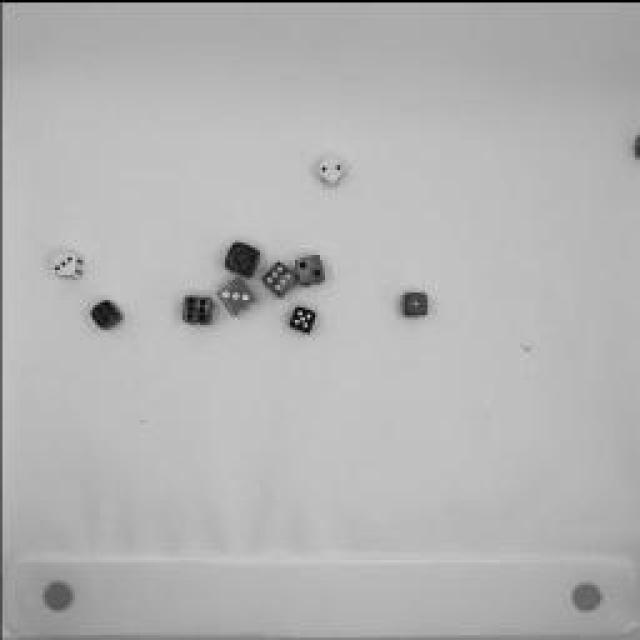dice_1: (393, 285, 435, 320)
dice_2: (310, 154, 350, 186), (295, 252, 325, 286)
dice_3: (220, 238, 265, 278), (216, 278, 256, 318), (46, 248, 86, 282)
dice_5: (282, 304, 322, 336)
dice_6: (87, 294, 125, 336), (262, 258, 296, 298), (179, 292, 216, 326)
